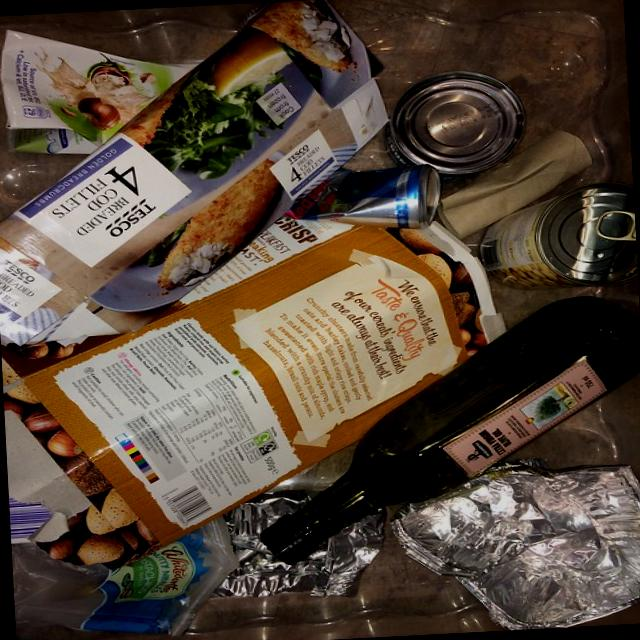Recycle: (255, 295, 640, 566), (478, 176, 639, 298), (388, 70, 532, 180)
Trash: (0, 0, 389, 321), (0, 321, 250, 640)
